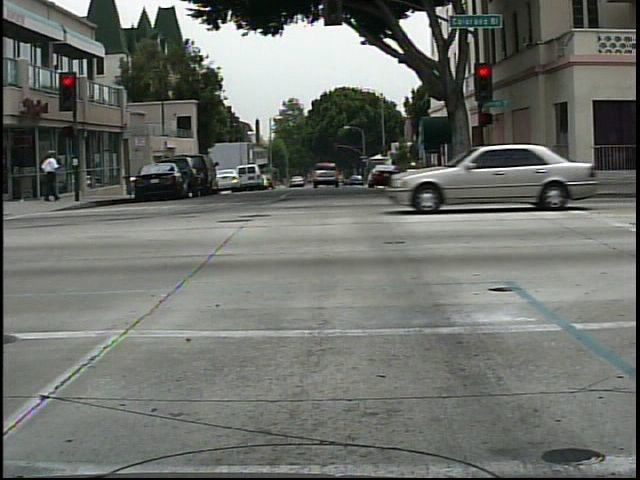person: (37, 143, 65, 210), (476, 140, 506, 193)
